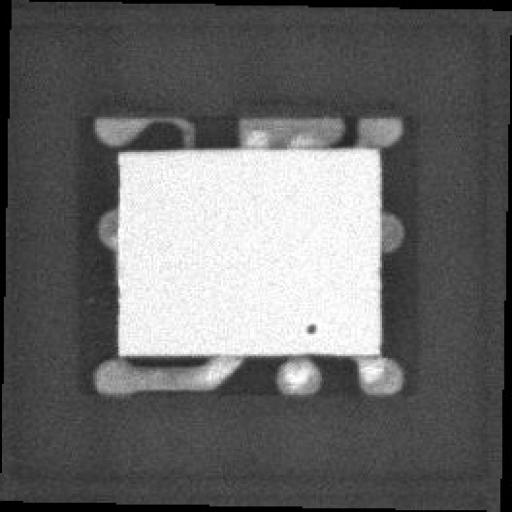DIE_INK: (288, 332, 304, 351)
